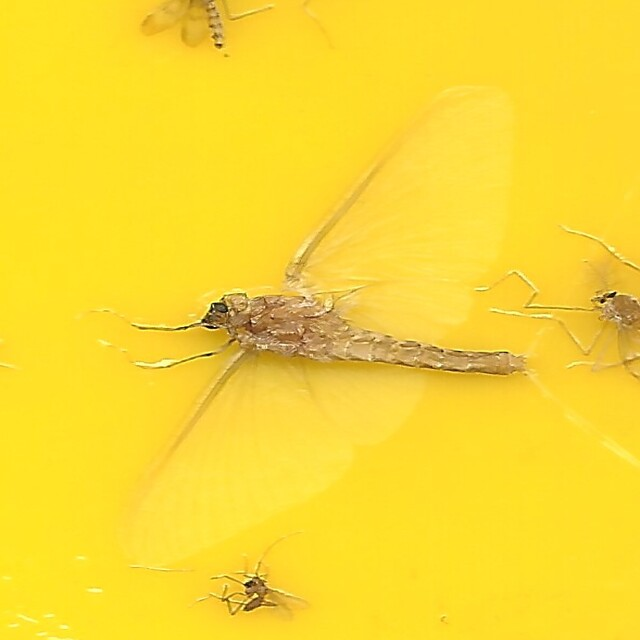Ephemeroptera: (109, 79, 531, 561)
